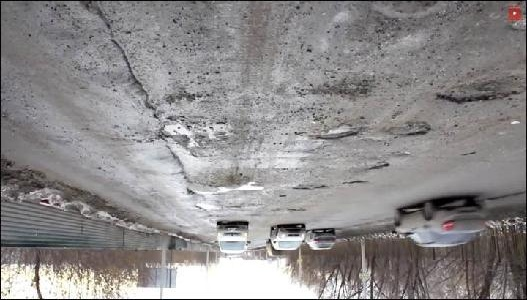pothole: (434, 79, 525, 106), (326, 77, 371, 99), (313, 124, 361, 144), (396, 117, 433, 140), (290, 180, 328, 194), (366, 160, 389, 174), (340, 180, 368, 188)
